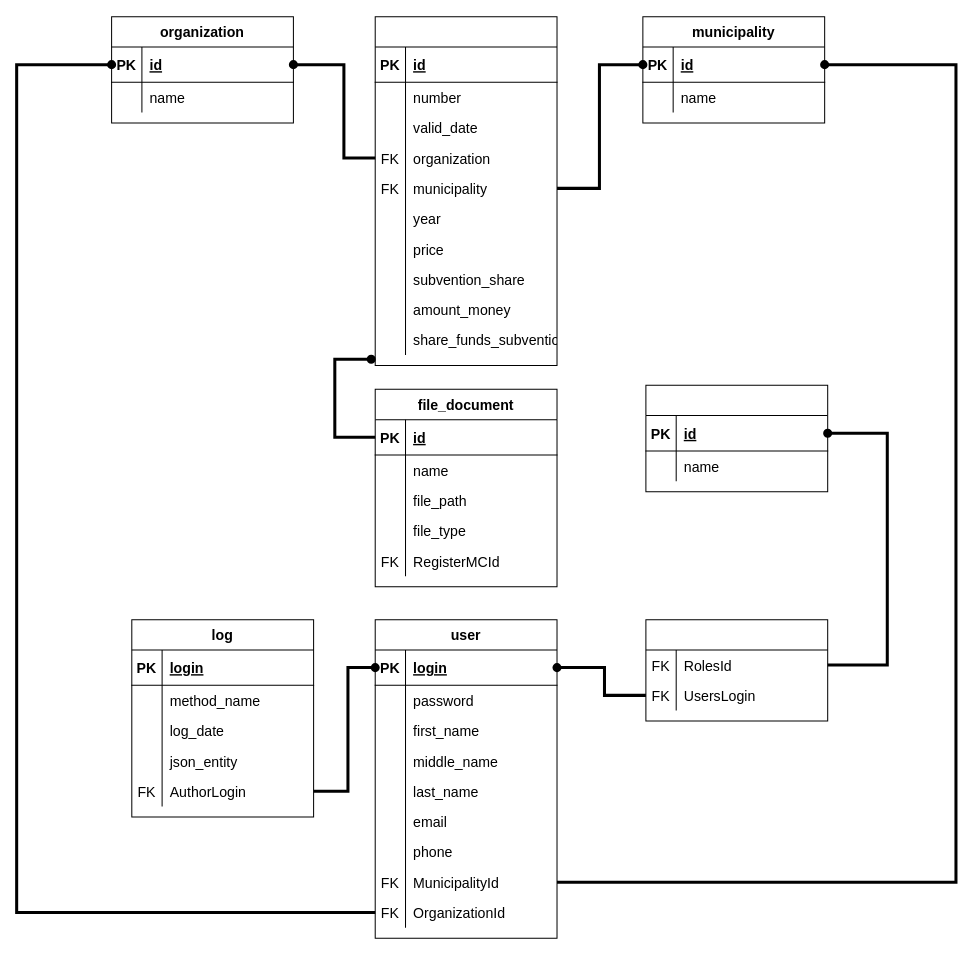
Image size: 973x954. Some labels were removed from this diagram. Here are the shapes that lost their labels. From the top down, the box of each, then its label:
(374, 16, 557, 366): register-m-c
(645, 384, 828, 492): role
(645, 619, 828, 721): roleUser
